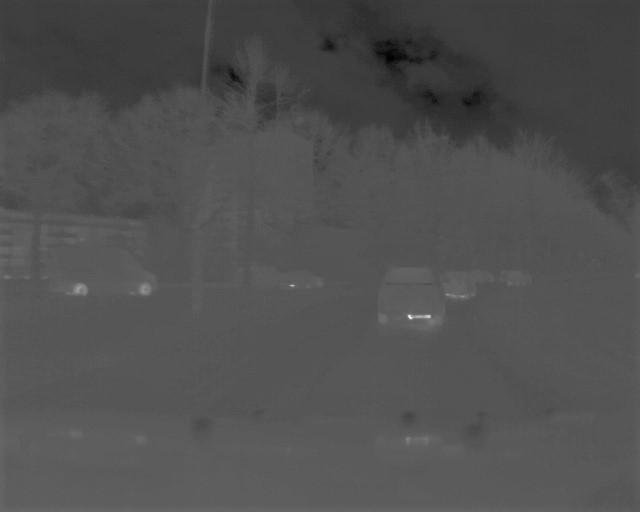car: (378, 263, 450, 333), (52, 258, 160, 300), (504, 268, 531, 288)
